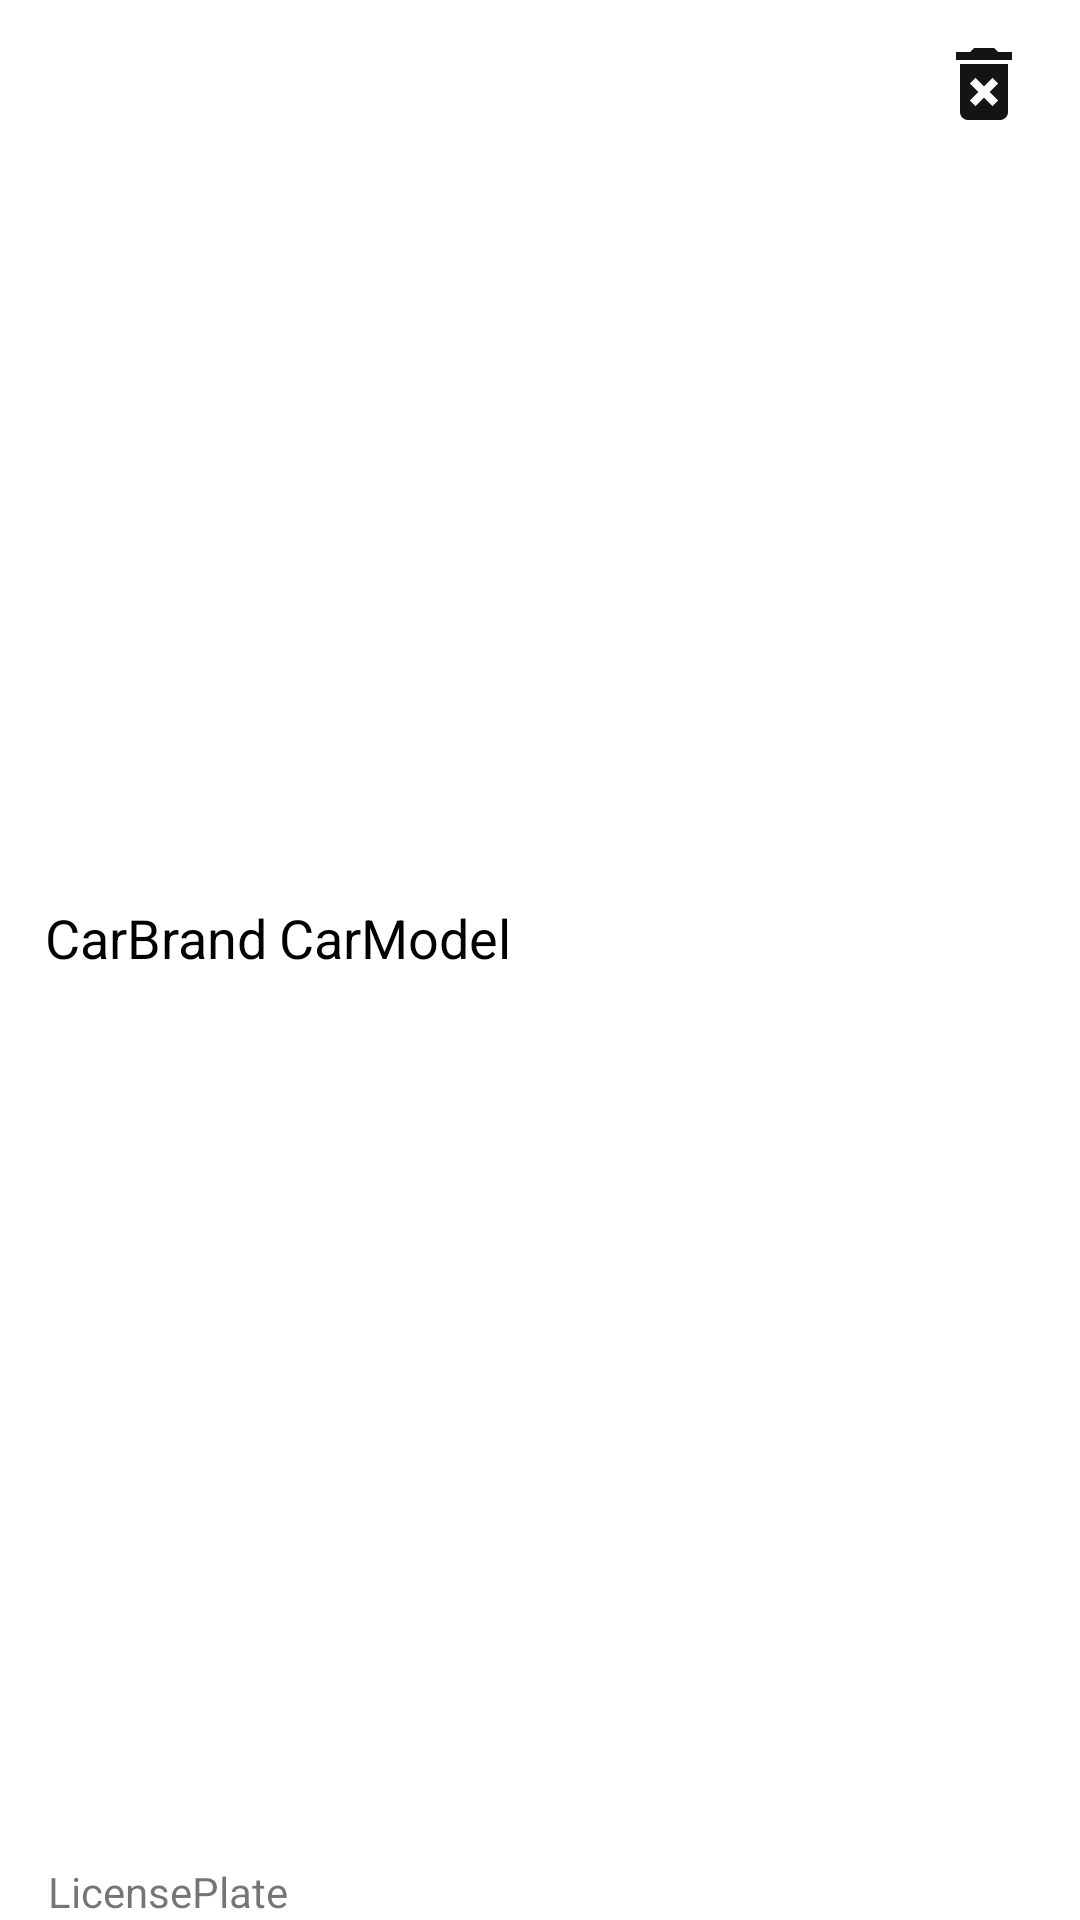

Icon bounding boxes for this 1080w x 1920h phone screenshot, format (x1, y1, x2, y2):
remove: (956, 48, 1012, 120)
